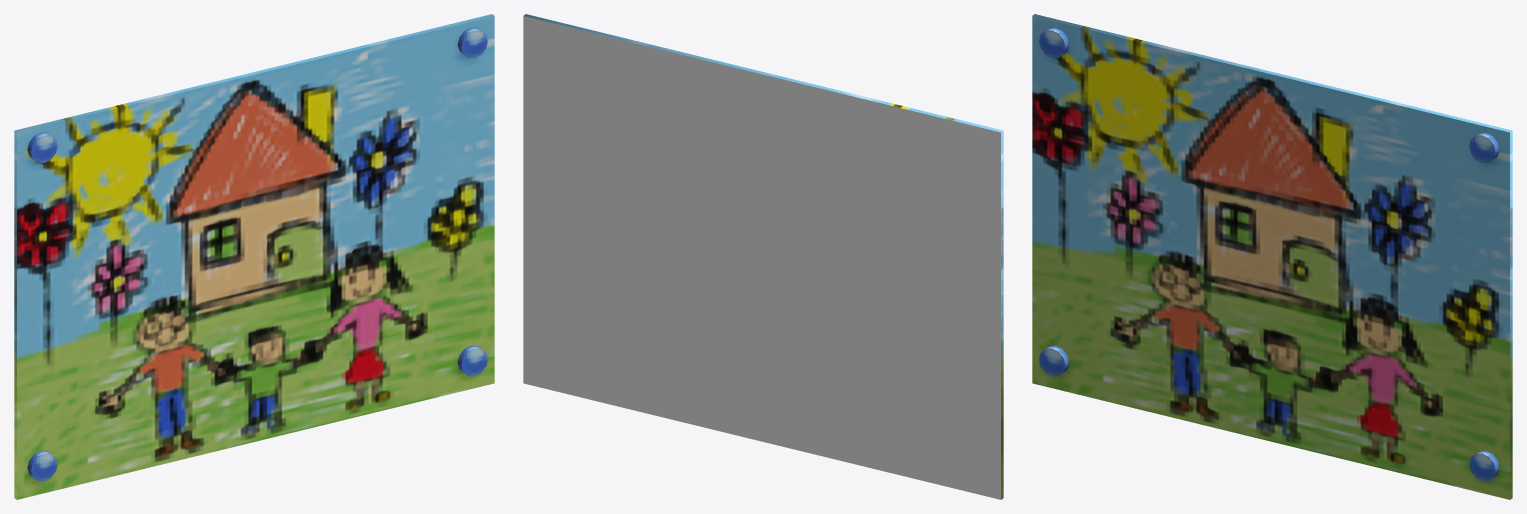
The model's file is BlueArt_HD.fbx.
The picture shows the model from 3 angles, left to right: view 1: azimuth 30°, elevation 25°; view 2: azimuth 150°, elevation 25°; view 3: azimuth 330°, elevation 25°; orthographic projection.
Visible parts, largest first — view 1: BlueArt; view 2: BlueArt; view 3: BlueArt.
Part boxes in pixels (<box>): BlueArt: <box>14,14,494,499</box>; BlueArt: <box>523,14,1003,499</box>; BlueArt: <box>1032,14,1512,499</box>.
Bounding box in the file's own units: 0.6357 × 0.4669 × 0.0148.
